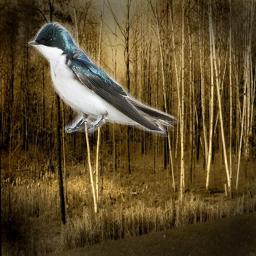Swallow: (27, 20, 179, 137)
